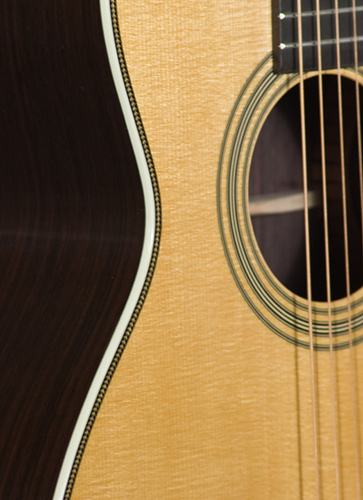guitar: (1, 1, 363, 500)
